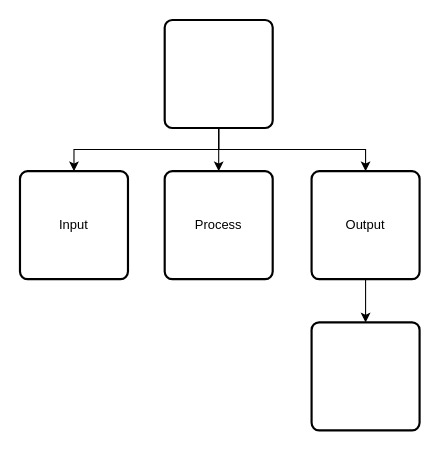
This 438x449 diagram has some shape labels left out. The box of each missing label's shape, as (x1, y1, x2, y2) in pixels:
"Hello World!": (310, 321, 420, 431)
Topdown: (163, 18, 273, 129)
